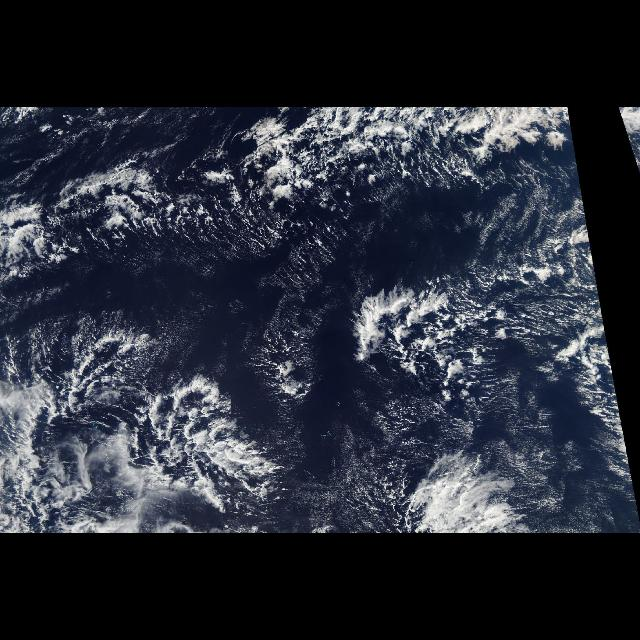Fish: (5, 142, 628, 532)
Gravel: (10, 344, 244, 528), (376, 273, 614, 382)
Sugar: (106, 218, 368, 424), (563, 437, 617, 533)
